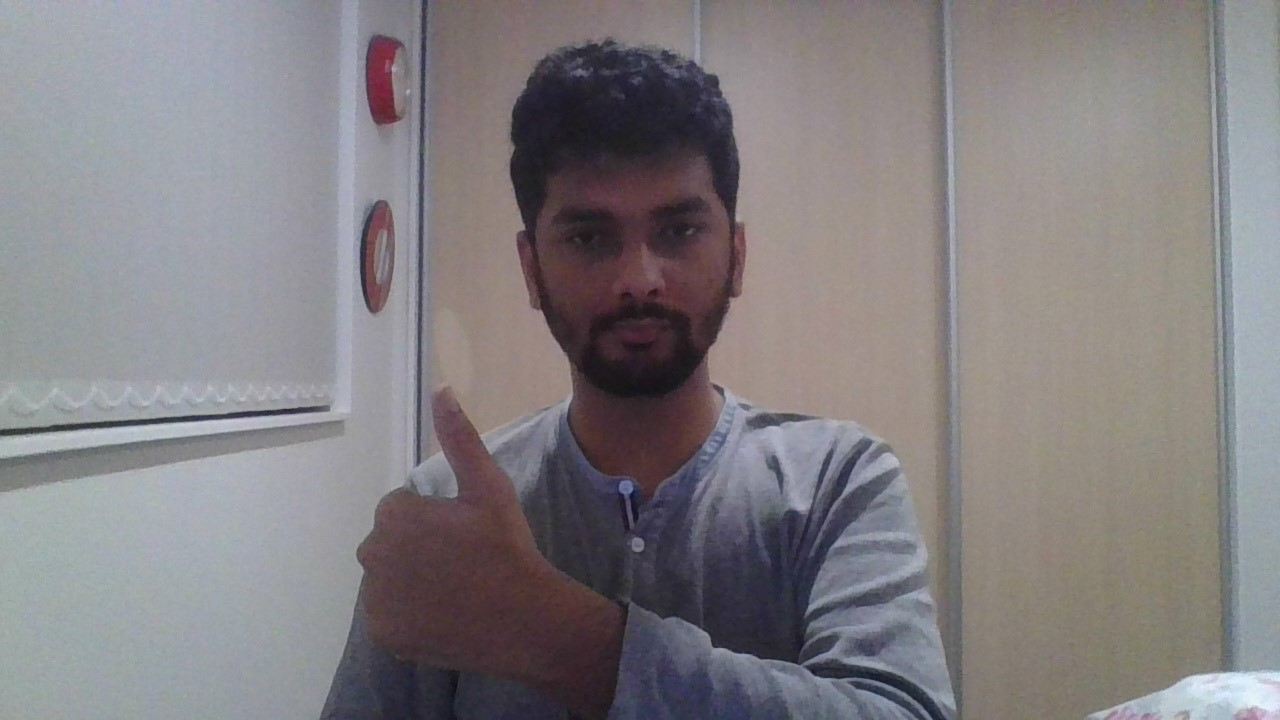good: (357, 385, 549, 677)
